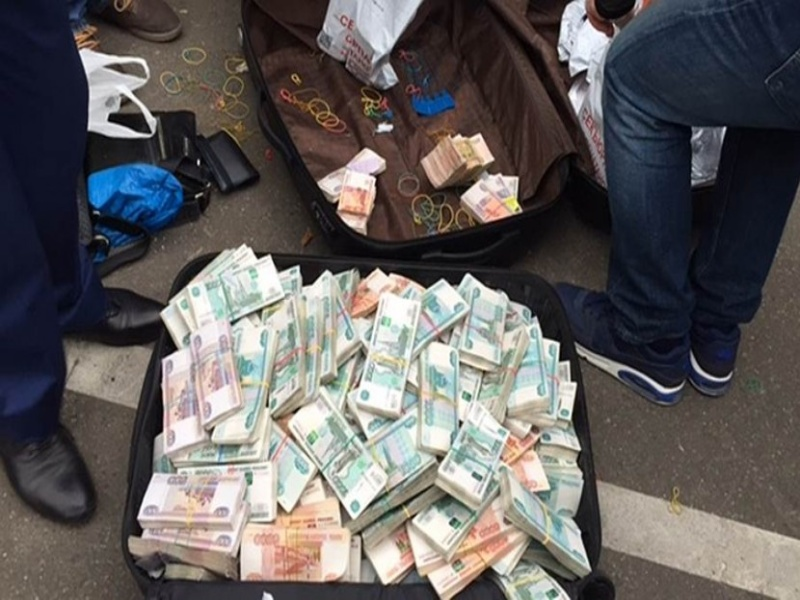cash: (128, 244, 590, 599), (317, 146, 388, 233), (420, 133, 495, 187), (459, 175, 521, 223)
person: (555, 1, 800, 404), (1, 1, 167, 526)
